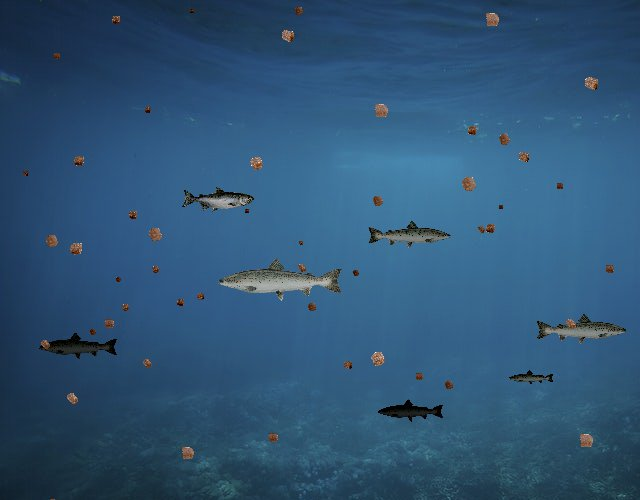Fish: (216, 256, 345, 302), (535, 313, 629, 347), (366, 219, 452, 250), (38, 332, 119, 361), (182, 186, 255, 213), (378, 399, 446, 423), (508, 370, 555, 387)
Pellet: (242, 150, 270, 178), (274, 23, 301, 50), (60, 386, 85, 411), (19, 167, 31, 179)
